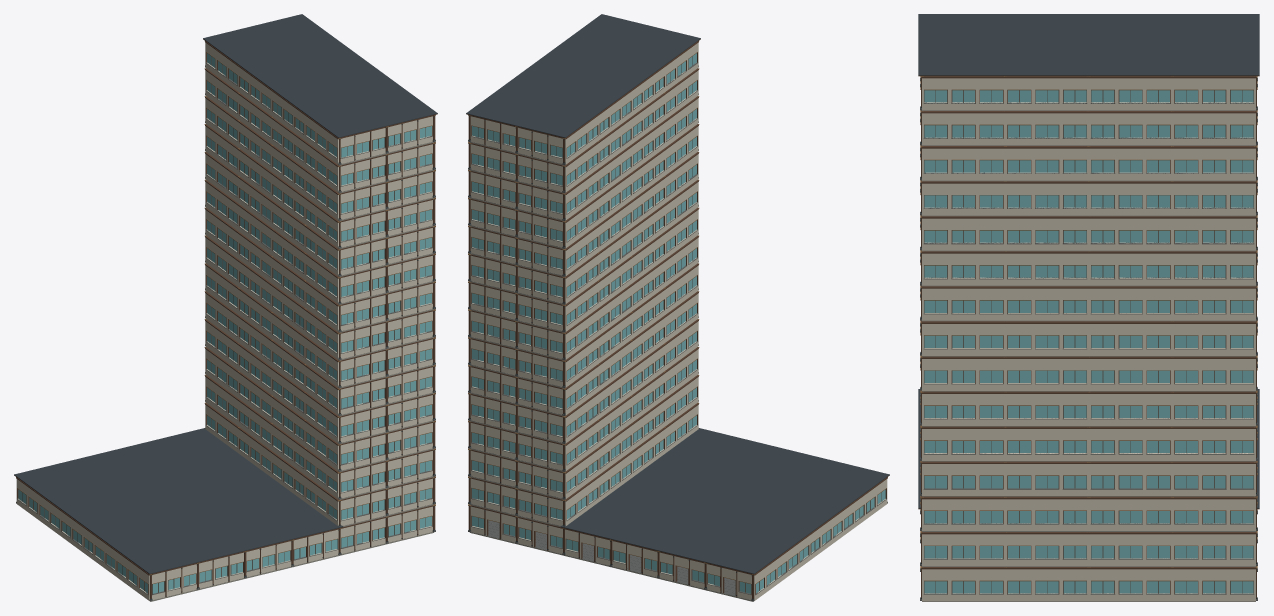
Rendered from visual-far.glb.
3 renders of one model, left to right at view 1: azimuth 30°, elevation 25°; view 2: azimuth 150°, elevation 25°; view 3: azimuth 270°, elevation 25°, orthographic. The views are drawn at different scales.
Parts seen in each view (by area): view 1: 参数墙 · 独立窗玻璃 (×94), 连续屋面 · flat (×2); view 2: 参数墙 · 独立窗玻璃 (×88), 连续屋面 · flat (×2), 参数墙 · 通行门洞 (×6); view 3: 参数墙 · 独立窗玻璃 (×60), 连续屋面 · flat (×2).
Part boxes in pixels (x1,y1,x2,y2): 参数墙 · 独立窗玻璃 (×94): [16, 41, 433, 600]; 连续屋面 · flat (×2): [14, 14, 437, 574]; 参数墙 · 独立窗玻璃 (×88): [470, 41, 887, 600]; 连续屋面 · flat (×2): [466, 14, 889, 574]; 参数墙 · 通行门洞 (×6): [470, 505, 751, 599]; 参数墙 · 独立窗玻璃 (×60): [922, 76, 1255, 601]; 连续屋面 · flat (×2): [918, 14, 1259, 509].
Bounding box in the file's own units: 47.6 × 66.32 × 38.8.
Materials: 15 (15 with a texture image).
